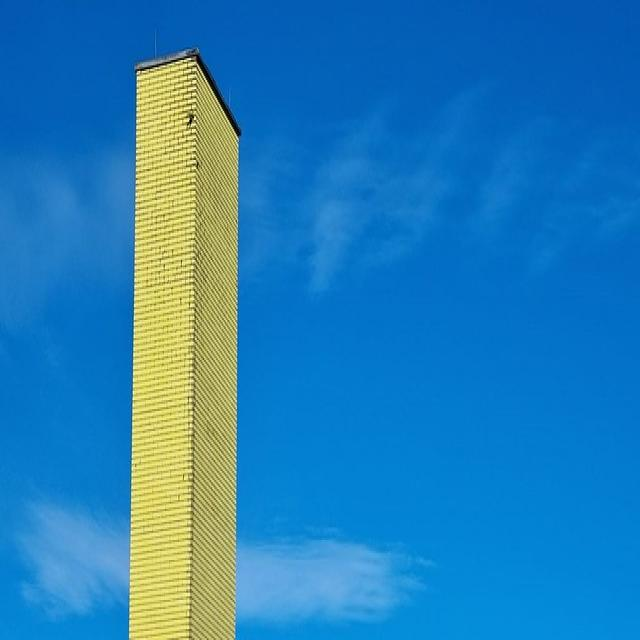Normal_building: (121, 32, 244, 640)
